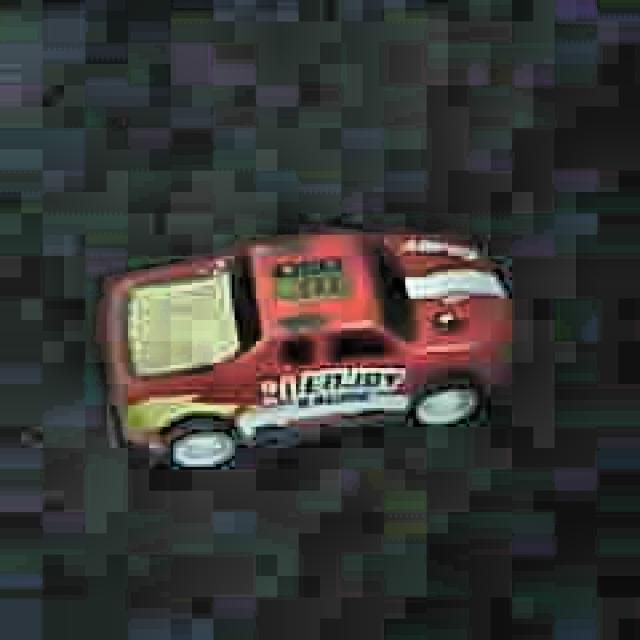car: (99, 222, 519, 481)
